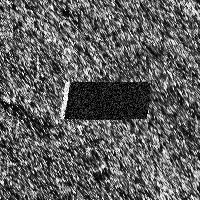mine: (59, 77, 153, 123)
